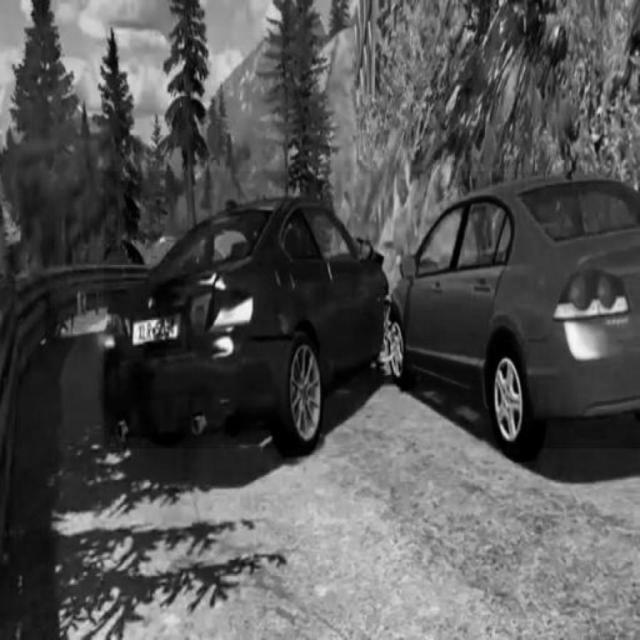accident: (104, 171, 640, 449)
